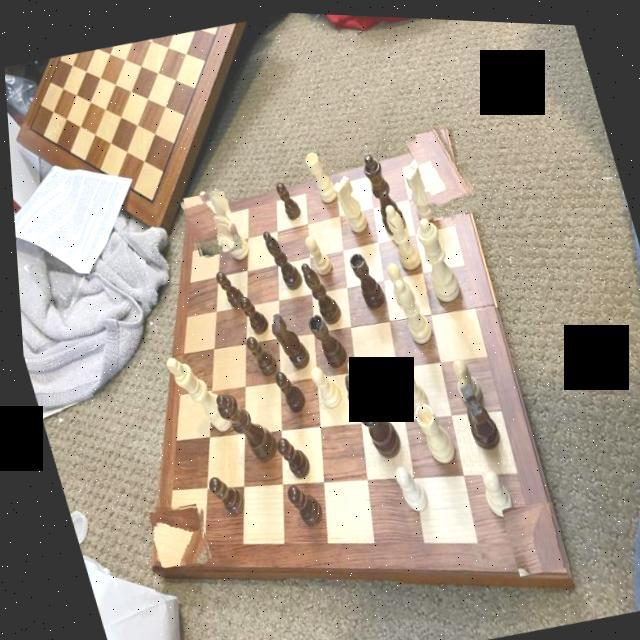chess-table-corners: (405, 118, 479, 216), (493, 493, 563, 572), (136, 496, 208, 568), (177, 184, 240, 256)
